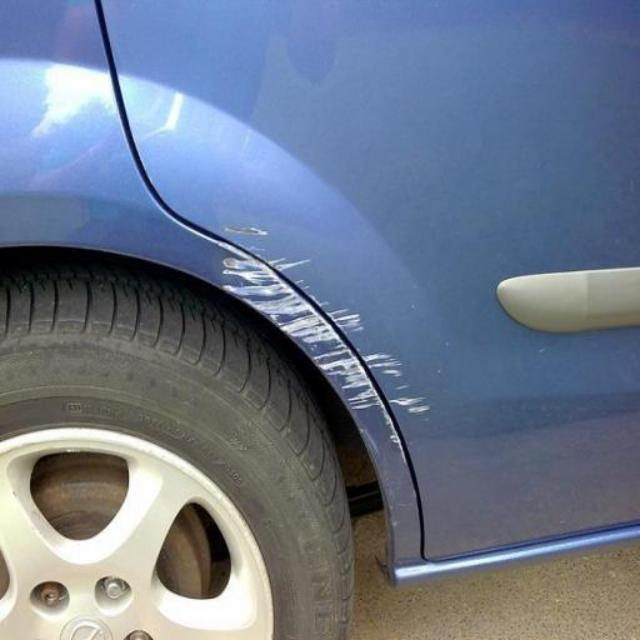rub: (219, 223, 431, 446)
